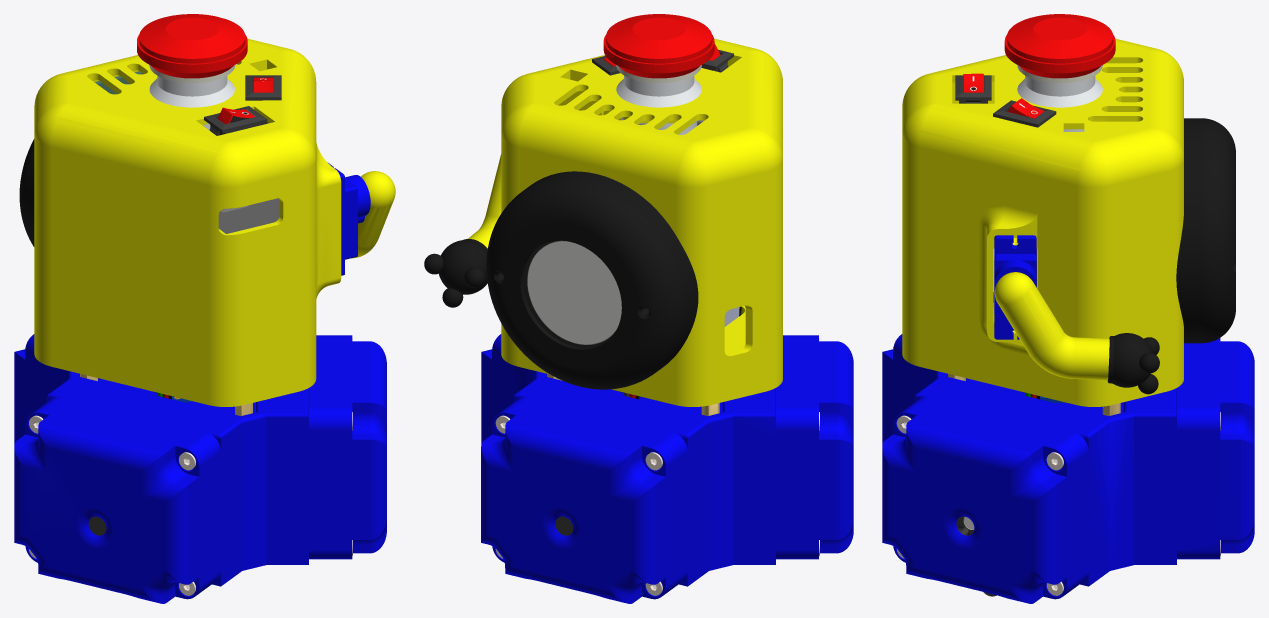
Rendered from pami.glb.
The picture shows the model from 3 angles, left to right: view 1: azimuth 30°, elevation 25°; view 2: azimuth 150°, elevation 25°; view 3: azimuth 270°, elevation 25°; orthographic projection.
Visible parts, largest first — view 1: PAMI; view 2: PAMI; view 3: PAMI.
Boxes of the visible parts, x1,y1,x2,y2 form: PAMI: [14, 14, 395, 603]; PAMI: [424, 14, 853, 603]; PAMI: [882, 14, 1254, 603].
Size of the model in its own units: 0.1243 by 0.1615 by 0.1076.
3 materials, 2 textured.
